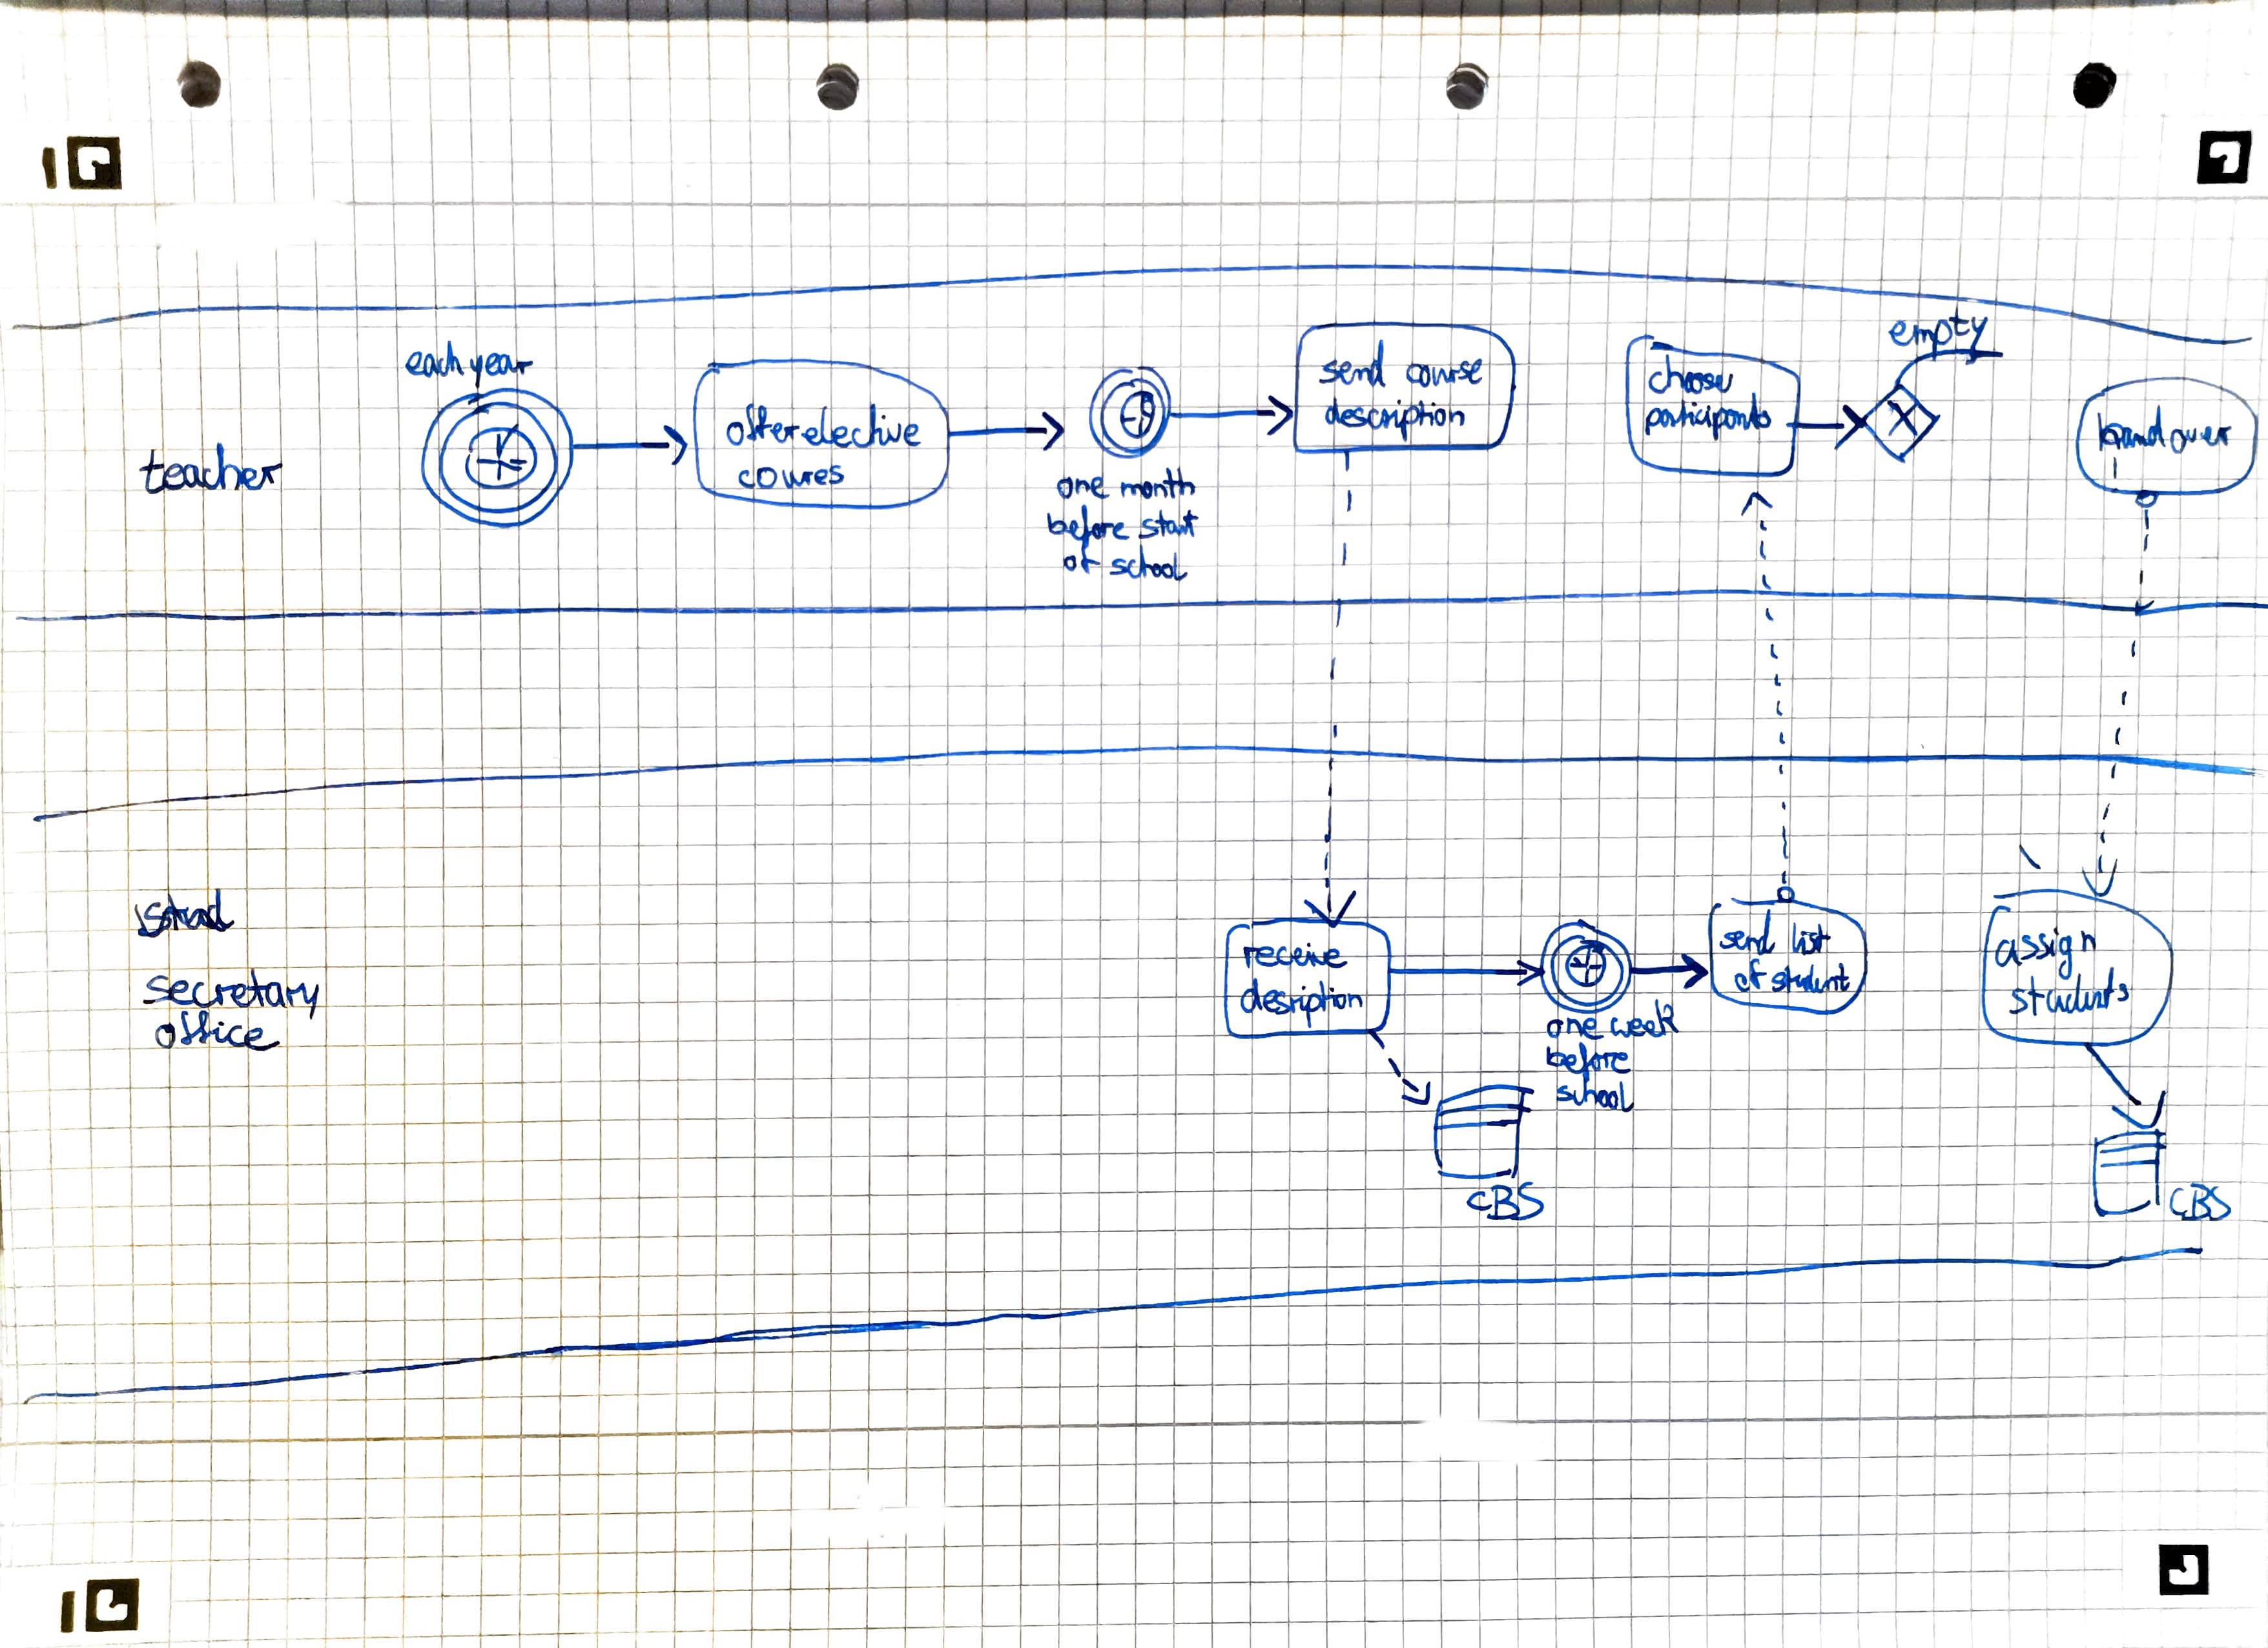CBS: (1463, 1180, 1546, 1222), (2166, 1181, 2233, 1224)
assign: (1988, 935, 2095, 991)
before: (1044, 502, 1131, 552), (1544, 1041, 1632, 1085)
chooses: (1647, 354, 1737, 395)
course: (1403, 356, 1485, 389)
courses: (737, 463, 847, 491)
description: (1323, 397, 1468, 443)
desription: (1239, 977, 1365, 1029)
each: (404, 340, 466, 379)
elective: (800, 402, 924, 449)
empty: (1887, 307, 1990, 364)
hand: (2096, 403, 2167, 453)
list: (1790, 922, 1833, 955)
month: (1118, 465, 1197, 500)
of: (1064, 537, 1102, 577), (1731, 957, 1770, 995)
offer: (724, 402, 801, 448)
office: (152, 1007, 282, 1049)
one: (1053, 474, 1111, 502), (1546, 1014, 1607, 1040)
over: (2169, 424, 2234, 455)
participants: (1642, 391, 1774, 438)
receive: (1241, 942, 1350, 969)
school: (1108, 541, 1189, 579), (1556, 1073, 1638, 1106)
secretary: (142, 965, 322, 1016)
send: (1316, 338, 1389, 388), (1720, 905, 1781, 952)
start: (1137, 507, 1199, 542)
student: (1769, 961, 1853, 995)
students: (2005, 973, 2131, 1018)
teacher: (136, 440, 285, 495)
week: (1609, 997, 1680, 1038)
year: (467, 351, 534, 391)
